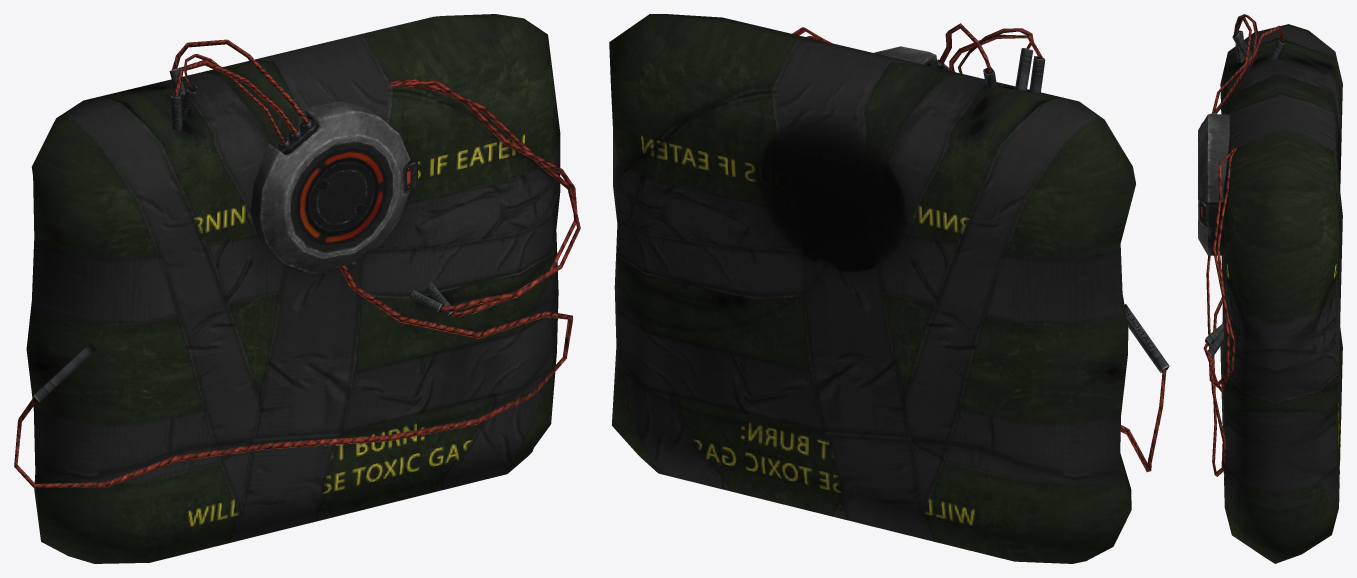
The model's file is t6_wpn_c4_stow_LOD0.obj.
The picture shows the model from 3 angles, left to right: view 1: azimuth 30°, elevation 25°; view 2: azimuth 150°, elevation 25°; view 3: azimuth 270°, elevation 25°; orthographic projection. The views are drawn at different scales.
Visible parts, largest first — view 1: mtl_t6_wpn_c4; view 2: mtl_t6_wpn_c4; view 3: mtl_t6_wpn_c4.
Part boxes in pixels (x1,y1,x2,y2): mtl_t6_wpn_c4: (14,14,580,563); mtl_t6_wpn_c4: (609,14,1169,563); mtl_t6_wpn_c4: (1198,14,1342,563).
Bounding box in the file's own units: 34.31 × 30.71 × 9.61.
